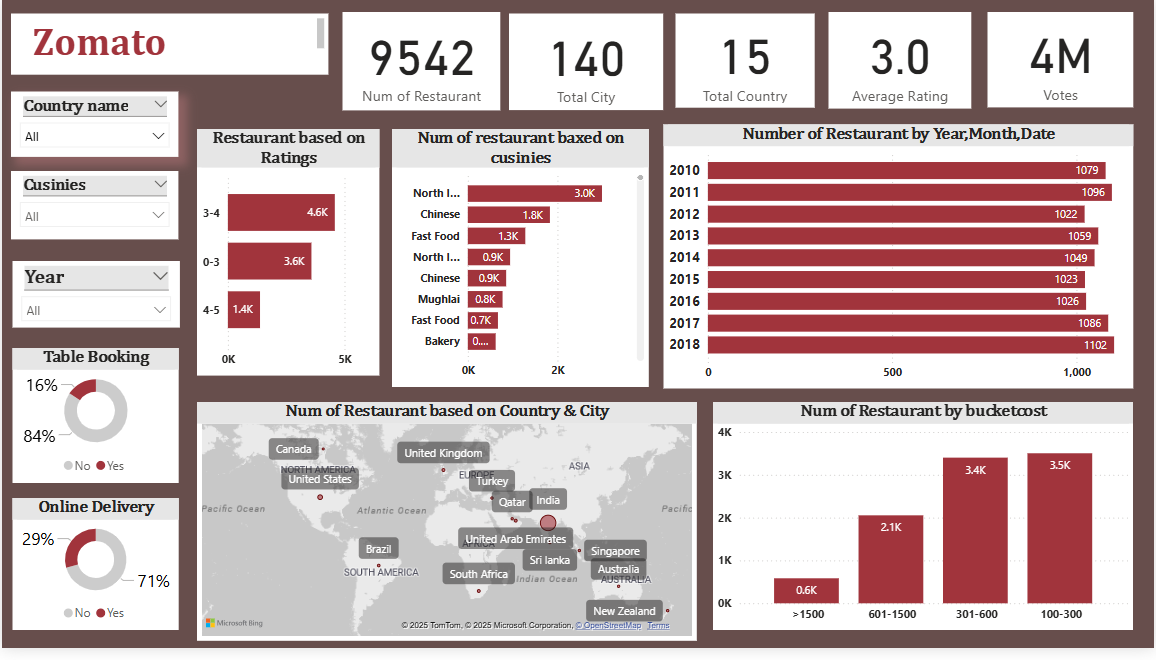

What the dashboard file says about the page in this screenshot:
{"tool":"powerbi","page":{"name":"Page 1","canvas":[1280,720],"ordinal":0},"visuals":[{"type":"textbox","box":[10.6,15.1,352.8,68.1],"z":0},{"type":"card","title":"#Restaurant","fields":{"Values":["Count(Main.RestaurantID)"]},"box":[378.6,13.6,175.6,109],"z":1000},{"type":"card","fields":{"Values":["Count(Main.City)"]},"box":[563.3,15.1,171.1,107.5],"z":2000},{"type":"card","fields":{"Values":["Count(Country.Countryname)"]},"box":[748,15.1,154.4,104.5],"z":3000},{"type":"slicer","fields":{"Values":["Country.Countryname"]},"box":[10.6,101.5,186.2,72.7],"z":4000},{"type":"slicer","fields":{"Values":["Main.Cusinies"]},"box":[10.6,189.3,186.2,75.7],"z":5000},{"type":"slicer","fields":{"Values":["Main.Datekey_Opening.Variation.Date Hierarchy.Year"]},"box":[12.1,290.7,186.2,74.2],"z":6000},{"type":"card","fields":{"Values":["Avg(Main.Rating)"]},"box":[917.6,13.6,159,107.5],"z":7000},{"type":"map","title":"Num of Restaurant based on Country & City","fields":{"Category":["Main.Countryname","Main.City"],"Size":["CountNonNull(Main.RestaurantID)"]},"box":[216.7,446.7,555,265],"z":8000},{"type":"donutChart","title":"Online Delivery ","fields":{"Category":["Main.has_online_delivery"],"Y":["CountNonNull(Main.RestaurantName)"]},"box":[12.1,552.7,184.7,146.9],"z":9000},{"type":"donutChart","title":"Table Booking ","fields":{"Y":["CountNonNull(Main.RestaurantName)"],"Category":["Main.Has_Table_booking"]},"box":[12.1,386.1,184.7,149.9],"z":10000},{"type":"barChart","title":"Number of Restaurant by Year,Month,Date","fields":{"Y":["Count(Main.RestaurantID)"],"Category":["Main.Datekey_Opening.Variation.Date Hierarchy.Year","Main.Datekey_Opening.Variation.Date Hierarchy.Quarter","Main.Datekey_Opening.Variation.Date Hierarchy.Month"]},"box":[735,138.3,521.7,293.3],"z":11000},{"type":"card","fields":{"Values":["Sum(Main.Votes)"]},"box":[1094.8,13.6,162,106],"z":12000},{"type":"columnChart","title":"Num of Restaurant by bucketcost","fields":{"Category":["Main.bucketcost"],"Y":["Count(Main.RestaurantID)"]},"box":[790,446.7,466.7,253.3],"z":13000},{"type":"barChart","title":"Num of restaurant baxed on cusinies","fields":{"Category":["Main.Cusinies"],"Y":["CountNonNull(Main.RestaurantID)"]},"box":[433.3,143.3,285,286.7],"z":14000},{"type":"barChart","title":" Restaurant based on Ratings","fields":{"Category":["Main.Rating Range"],"Y":["Count(Main.RestaurantID)"]},"box":[216.5,143.8,202.9,274.1],"z":15000}]}

Visuals, with their boxes in screenshot pixels (x1, y1, x2, y2), scaled from the page's 1280x720 canvas onto the 1156x660 screenshot:
textbox: bbox=[10, 14, 328, 76]
"#Restaurant" card: bbox=[342, 12, 501, 112]
card - Count(Main.City): bbox=[509, 14, 663, 112]
card - Count(Country.Countryname): bbox=[676, 14, 815, 110]
slicer - Country.Countryname: bbox=[10, 93, 178, 160]
slicer - Main.Cusinies: bbox=[10, 174, 178, 243]
slicer - Main.Datekey_Opening.Variation.Date Hierarchy.Year: bbox=[11, 266, 179, 334]
card - Avg(Main.Rating): bbox=[829, 12, 972, 111]
"Num of Restaurant based on Country & City" map: bbox=[196, 409, 697, 652]
"Online Delivery " donutChart: bbox=[11, 507, 178, 641]
"Table Booking " donutChart: bbox=[11, 354, 178, 491]
"Number of Restaurant by Year,Month,Date" barChart: bbox=[664, 127, 1135, 396]
card - Sum(Main.Votes): bbox=[989, 12, 1135, 110]
"Num of Restaurant by bucketcost" columnChart: bbox=[713, 409, 1135, 642]
"Num of restaurant baxed on cusinies" barChart: bbox=[391, 131, 649, 394]
" Restaurant based on Ratings" barChart: bbox=[196, 132, 379, 383]
